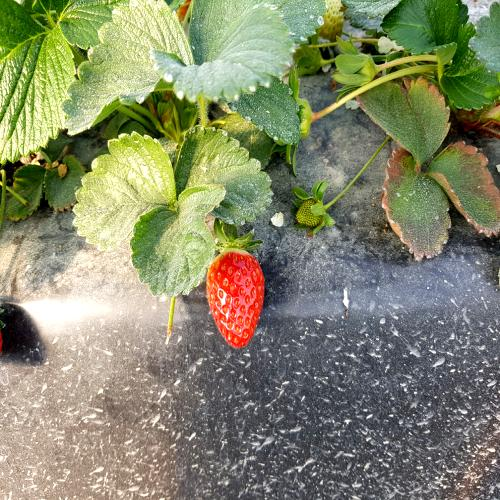ripe: (208, 250, 268, 354)
